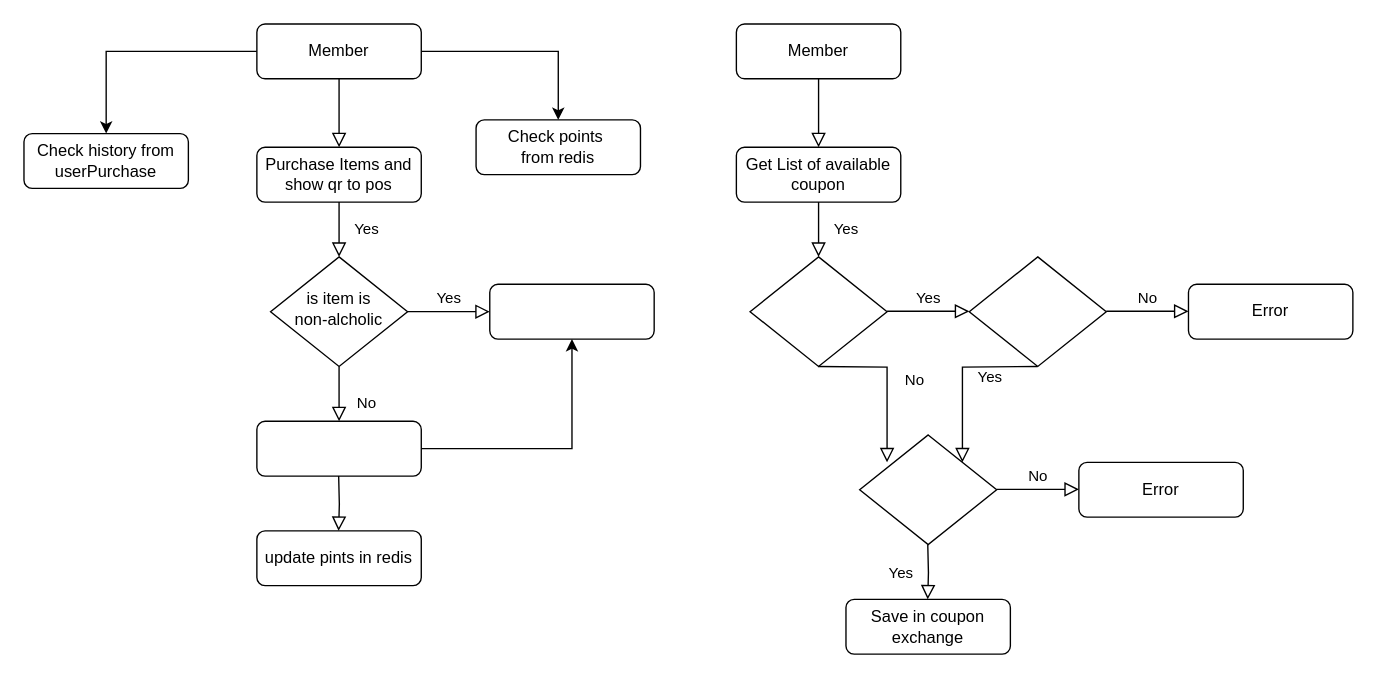
This 1377x678 diagram has some shape labels left out. The shapes that lost their labels are listed below. From the top down, each one's centre as x and y in pixels, then its label:
the point at 571,311: Save in userPurchase
the point at 818,311: is coupon is limited
the point at 1037,311: is limited coupon is available (checking qty)
the point at 338,448: Give Point
the point at 927,489: is user point is enough
